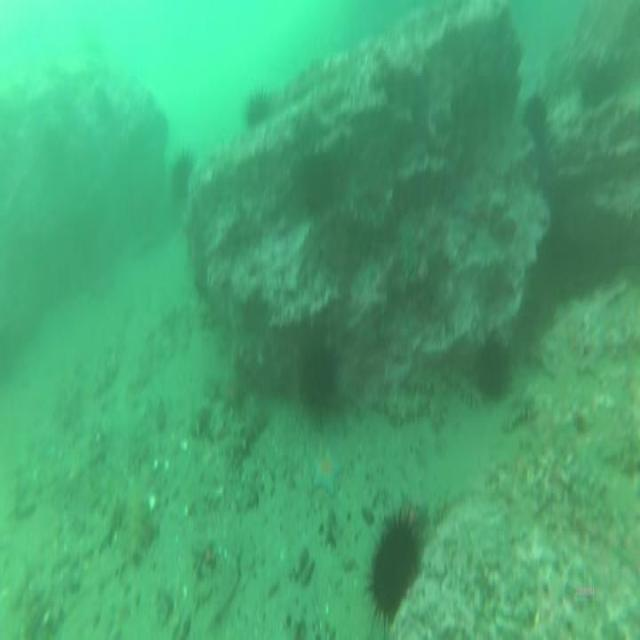echinus: (373, 520, 417, 619), (300, 338, 338, 414), (298, 148, 336, 216), (479, 337, 509, 398), (170, 156, 193, 198), (244, 92, 268, 128), (523, 95, 545, 134)
holothurian: (215, 411, 265, 457), (375, 387, 425, 425), (441, 363, 478, 412), (129, 485, 150, 561)
starfish: (312, 447, 342, 493)
